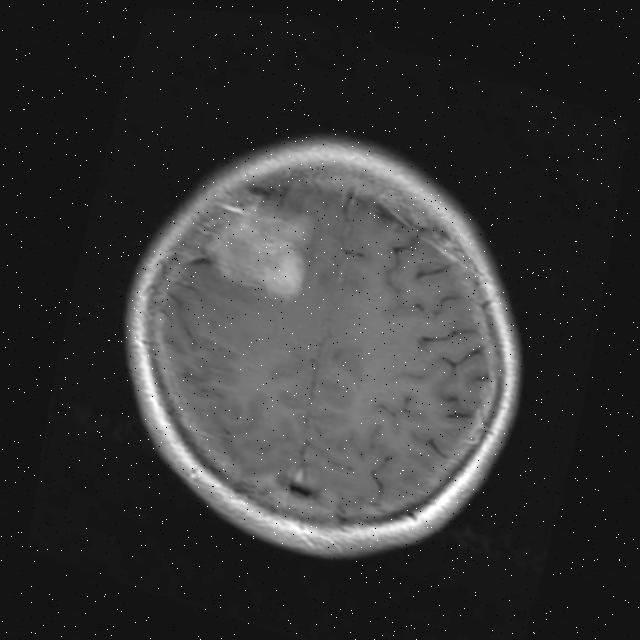Meningioma: (186, 177, 324, 310)
